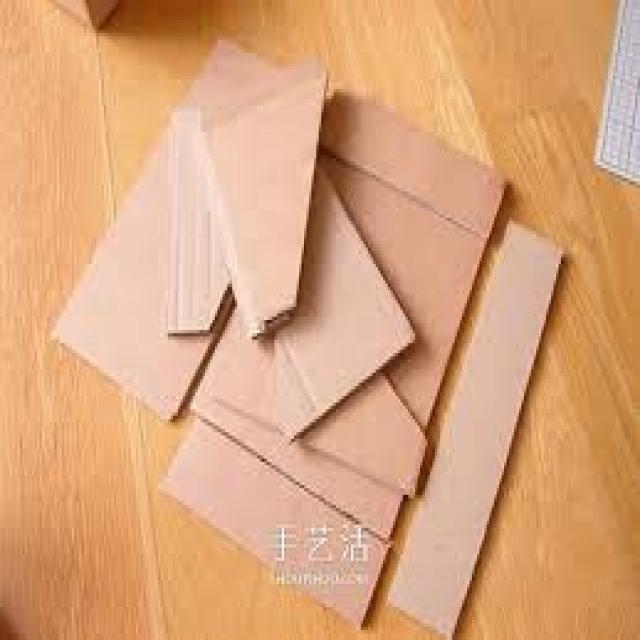Cardboard: (55, 39, 563, 640)
